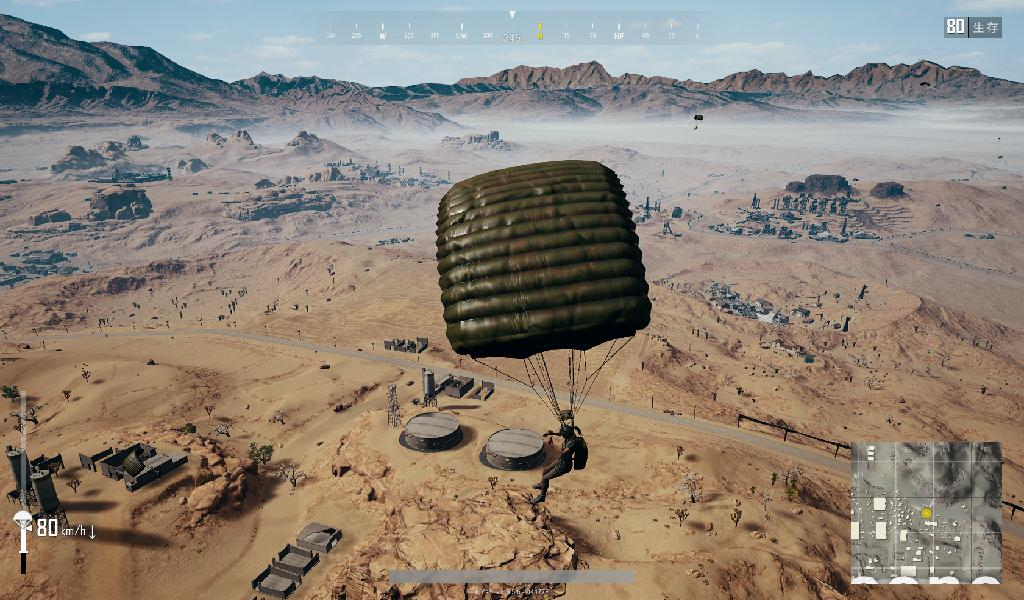Target Person: (532, 423, 590, 505), (692, 123, 700, 133)
